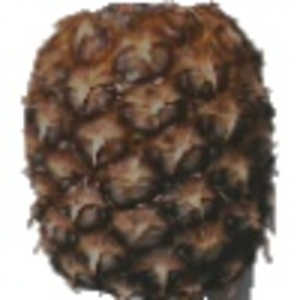abacaxi: (13, 2, 284, 295)
